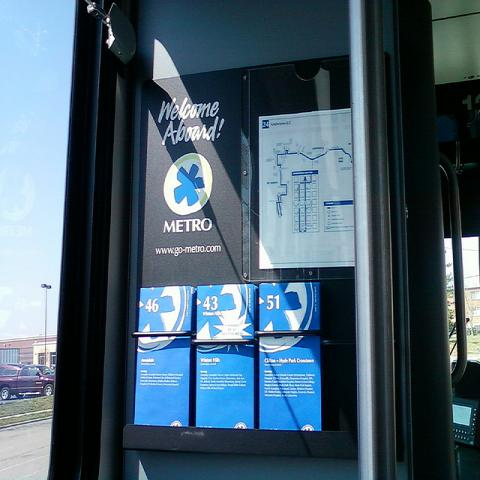truck: (0, 363, 54, 402)
